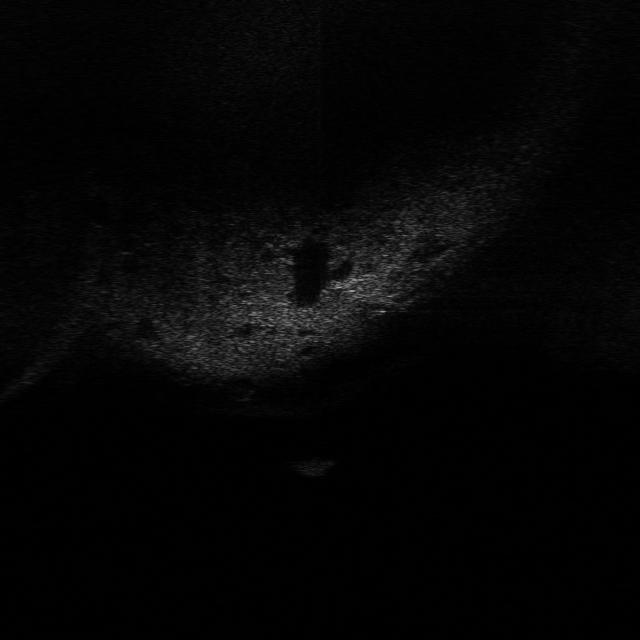cube: (284, 457, 340, 478)
